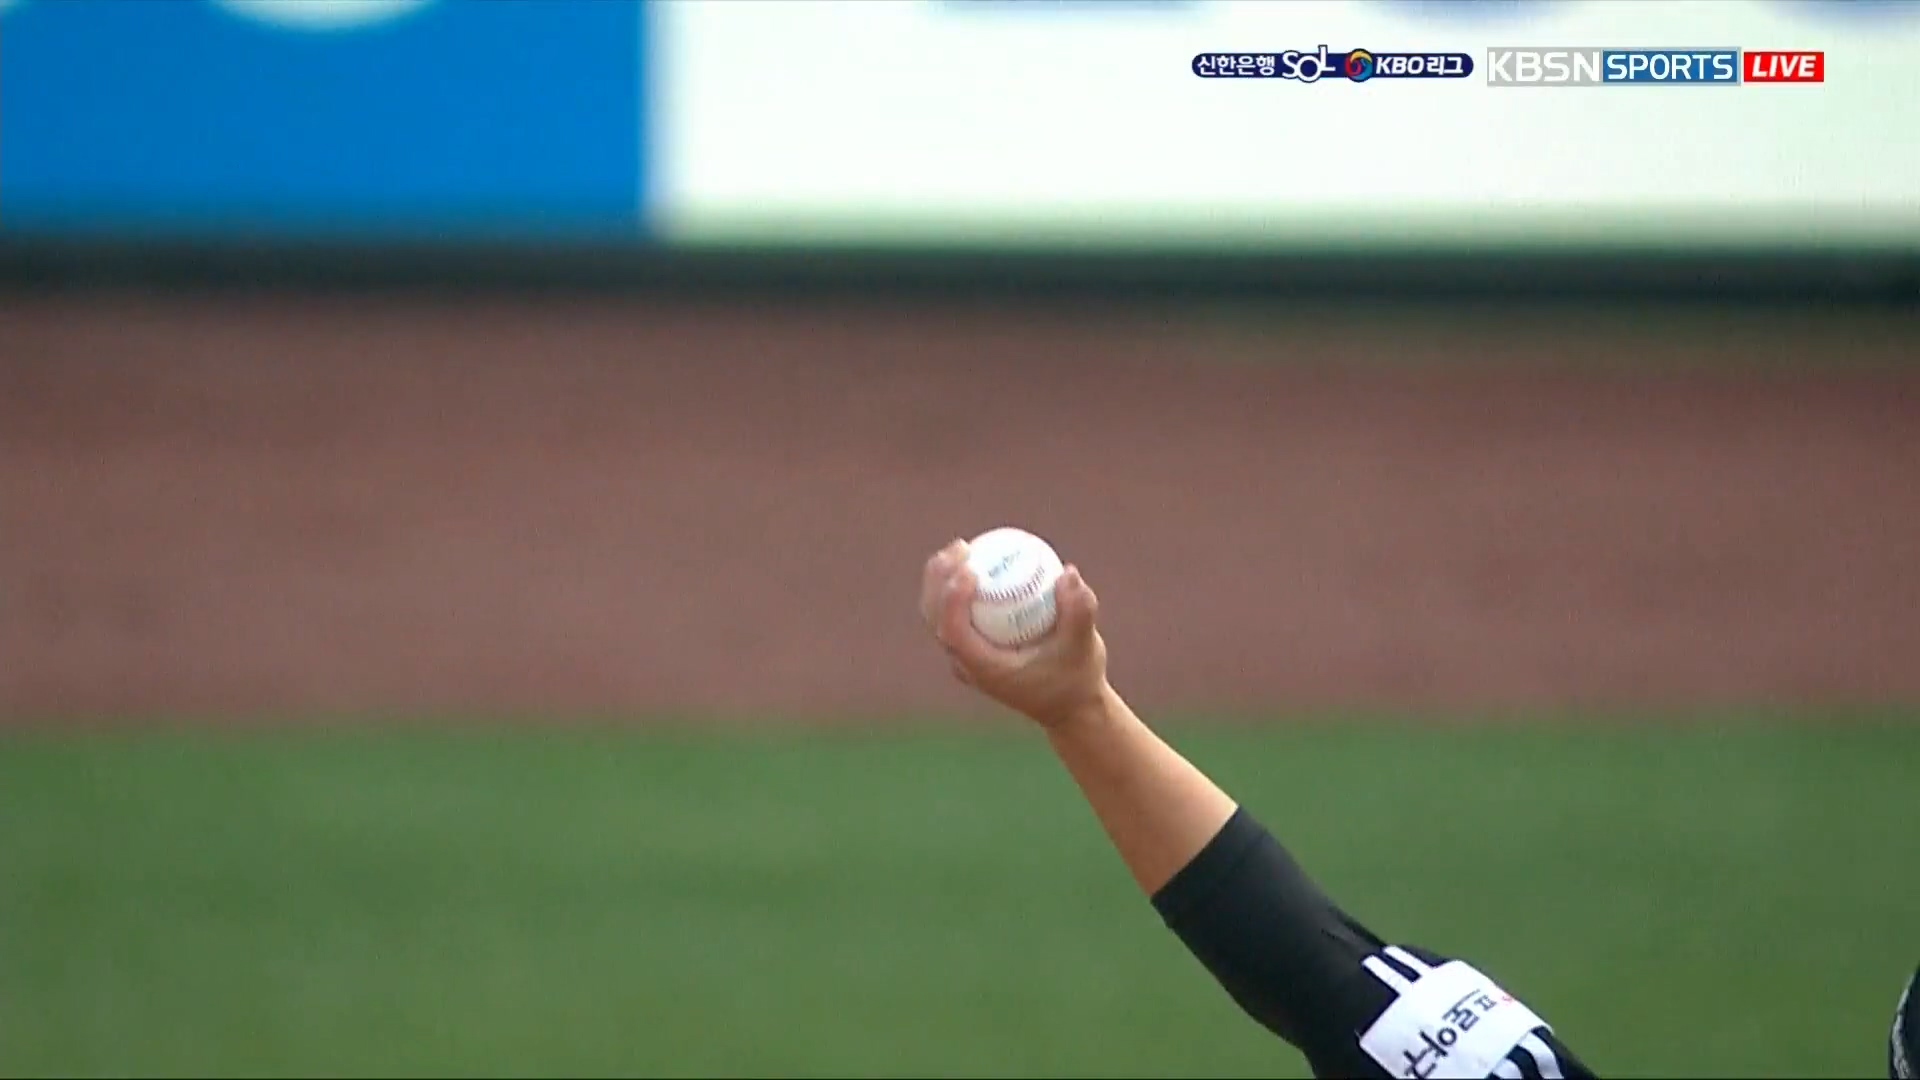zoomin_hand: (902, 520, 1425, 1048)
